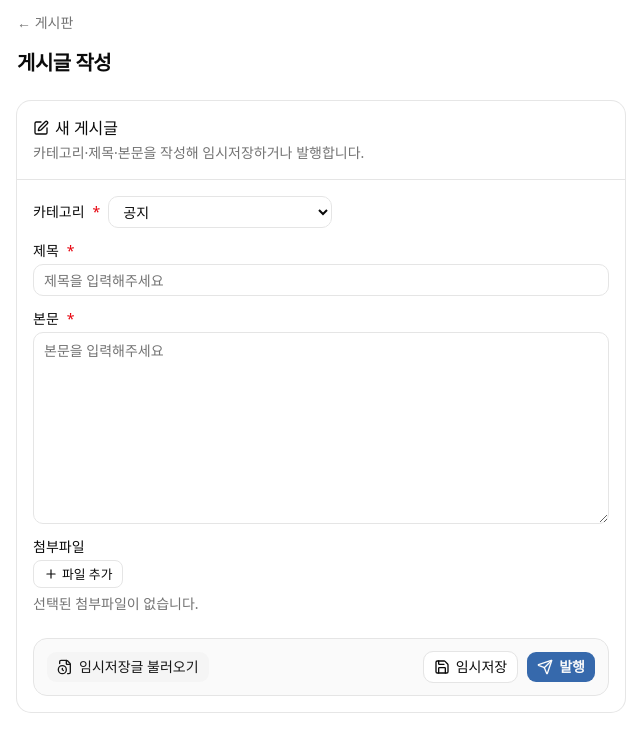
Test: BoardCreatePage (F308) - 임시저장글 인라인 편집 › 임시저장 목록이 비어 있으면 "임시저장한 글이 없습니다."를 보여준다
Hover over the button "임시저장글 불러오기".
mouse_move(128, 667)  # box [46,651,210,683]
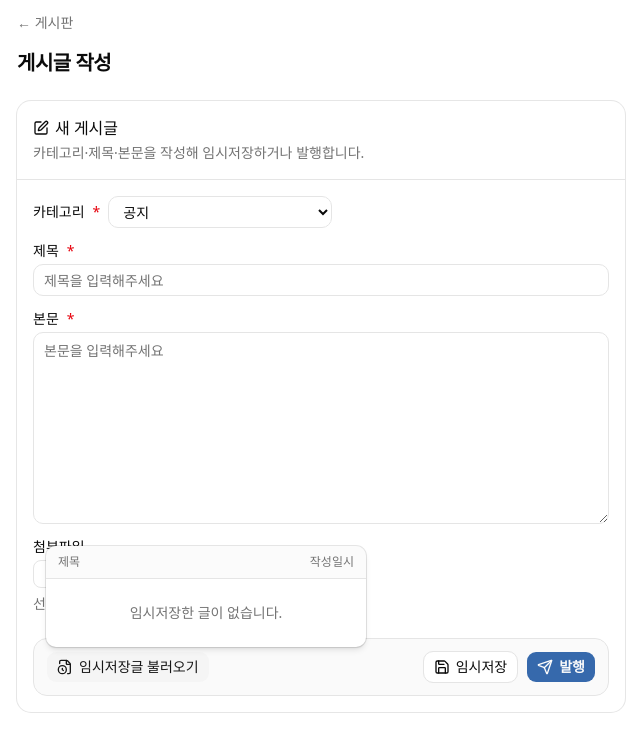
Now the text "임시저장한 글이 없습니다." is shown, box [130,603,282,622]
